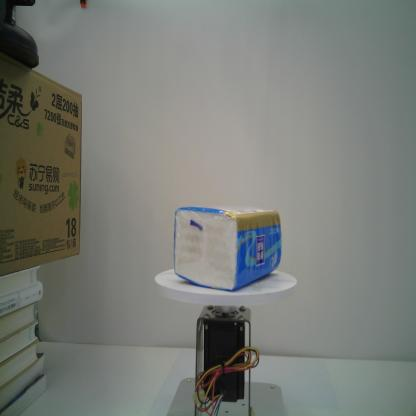Tissue: (170, 201, 284, 296)
